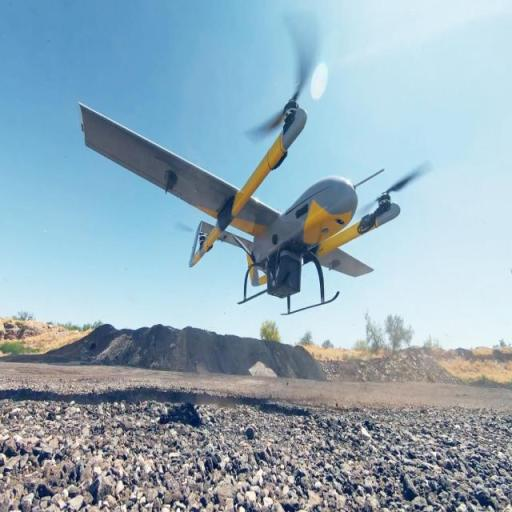uav: (56, 70, 427, 348)
